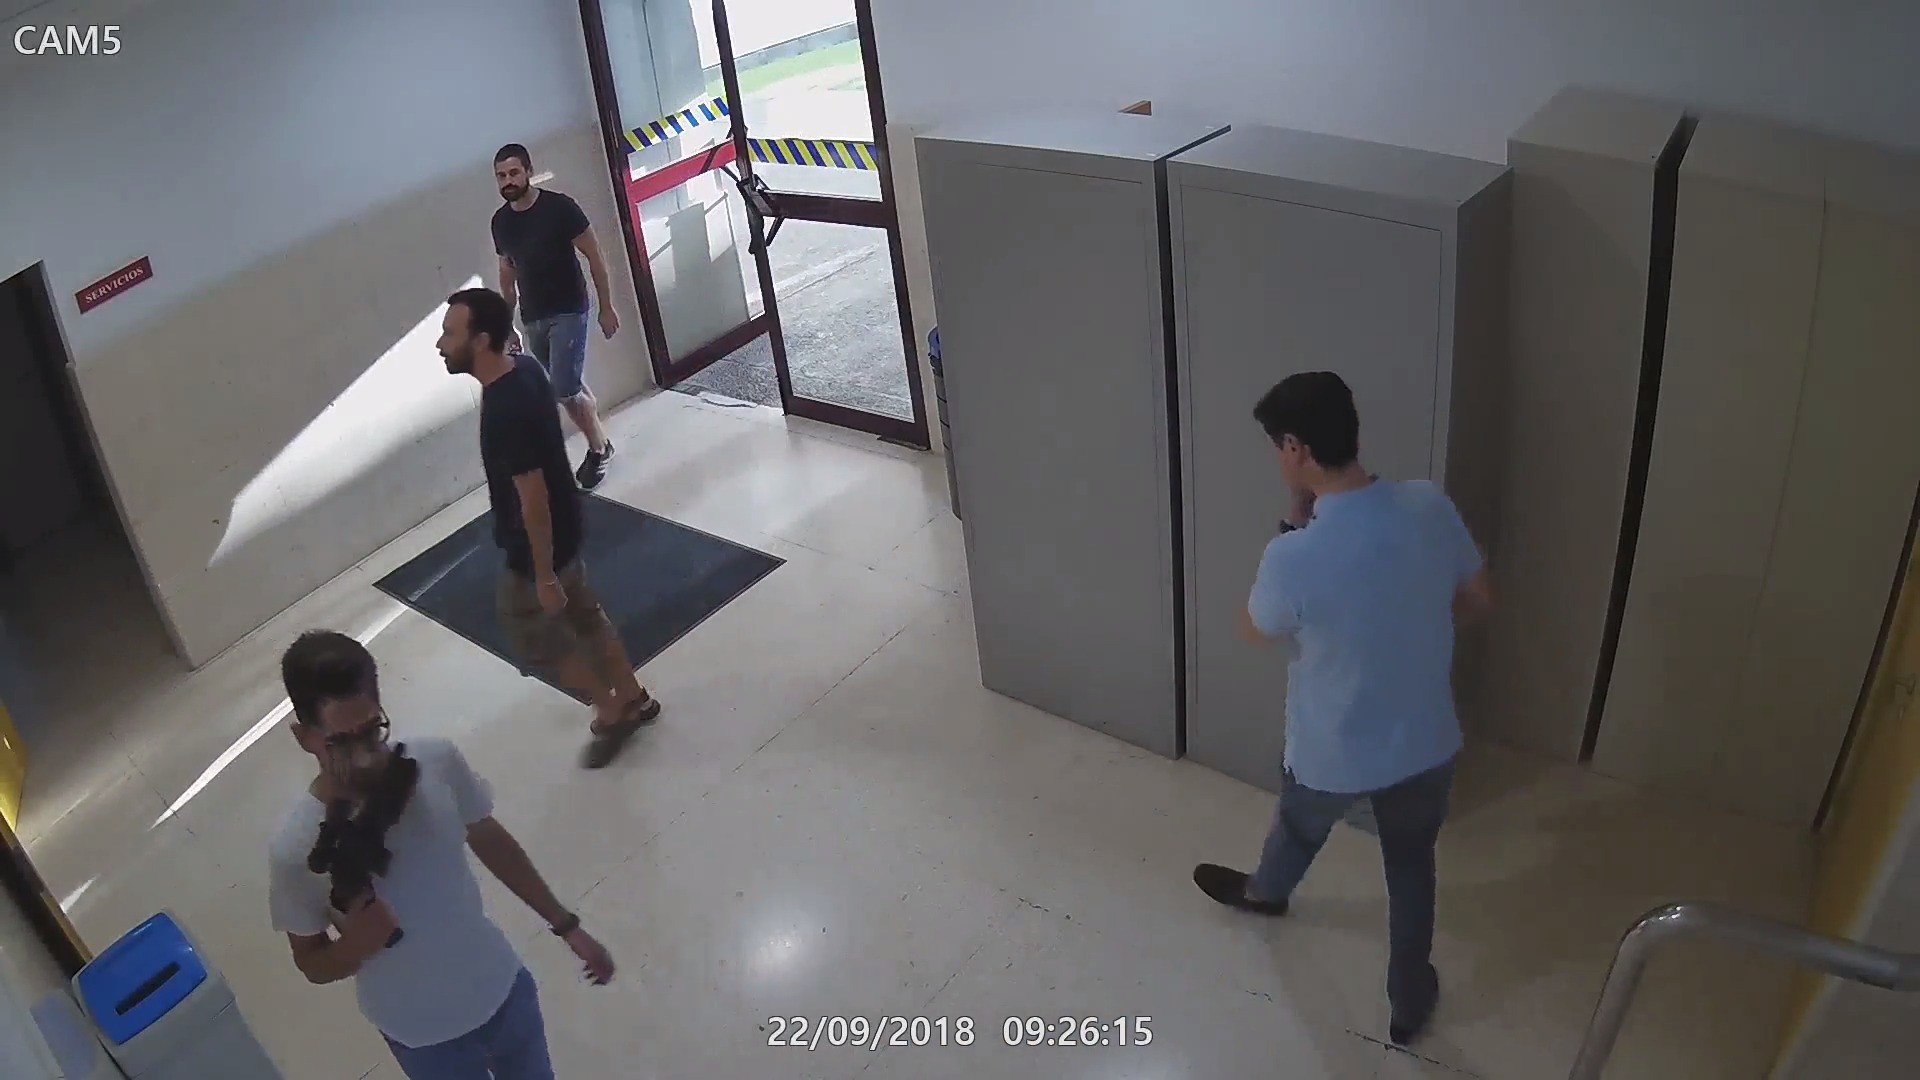Handgun: (498, 330, 526, 367)
Short_rifle: (323, 746, 448, 963)
